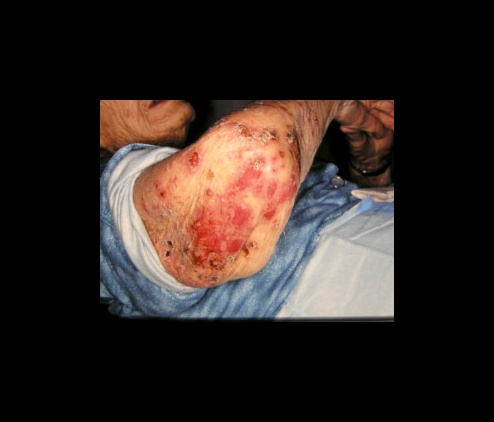SJS-TEN: (113, 86, 341, 303)
